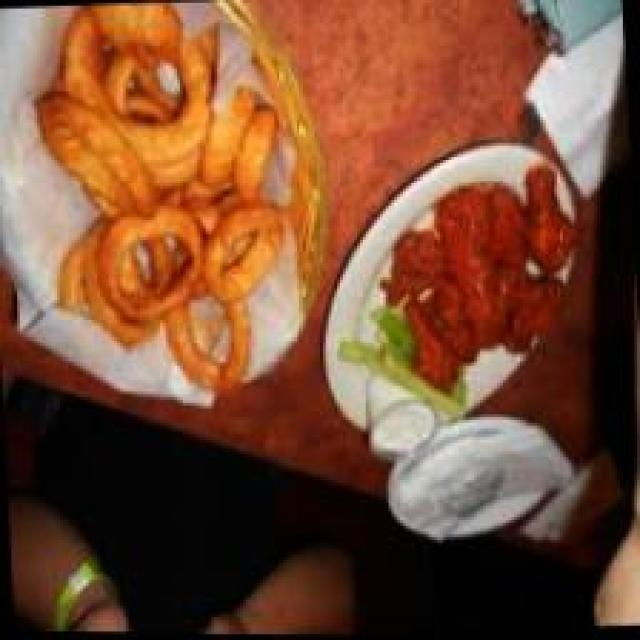Chicken Wings: (360, 156, 597, 396)
Onion Rings: (31, 0, 312, 409)
